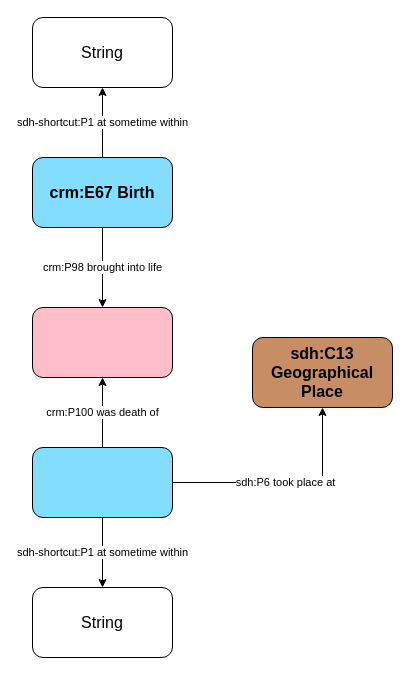
The diagram is 410 pixels wide and 675 high, and some of its shapes have lost their labels. Here are the shapes that lost their labels. From the top down, the centre of each, then its label:
At (102,342): "crm:E21 Person".
At (102,482): "crm:E69 Death".
